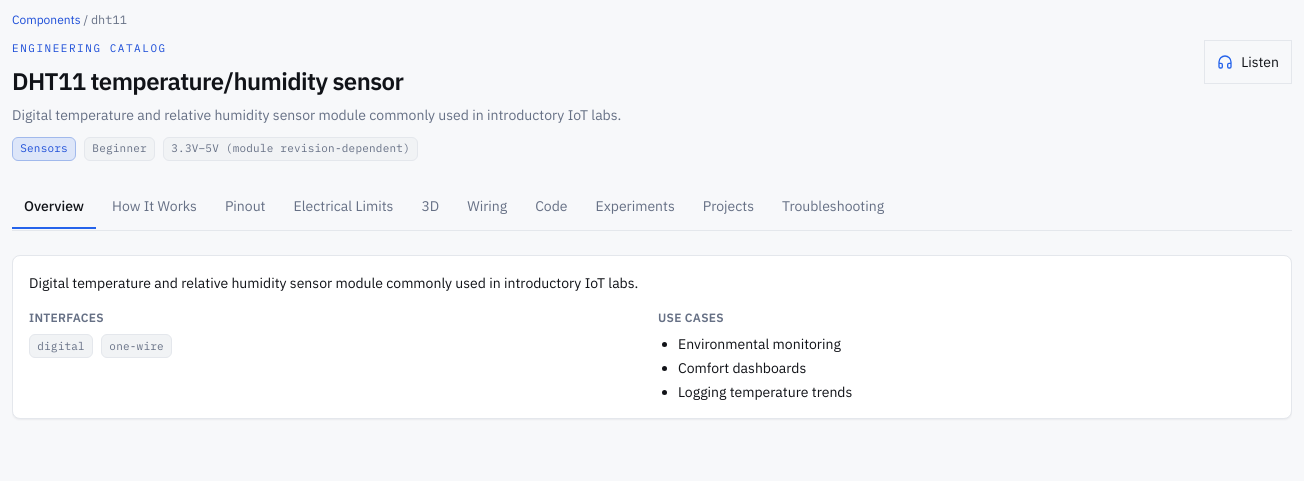
ComponentDetailPage › renders pin table and safety for a known slug
Expected: the heading "DHT11 temperature/humidity sensor" is shown, [12,64,403,96]
Click the tab "Pinout".
click(245, 206)  # box [213,184,278,228]
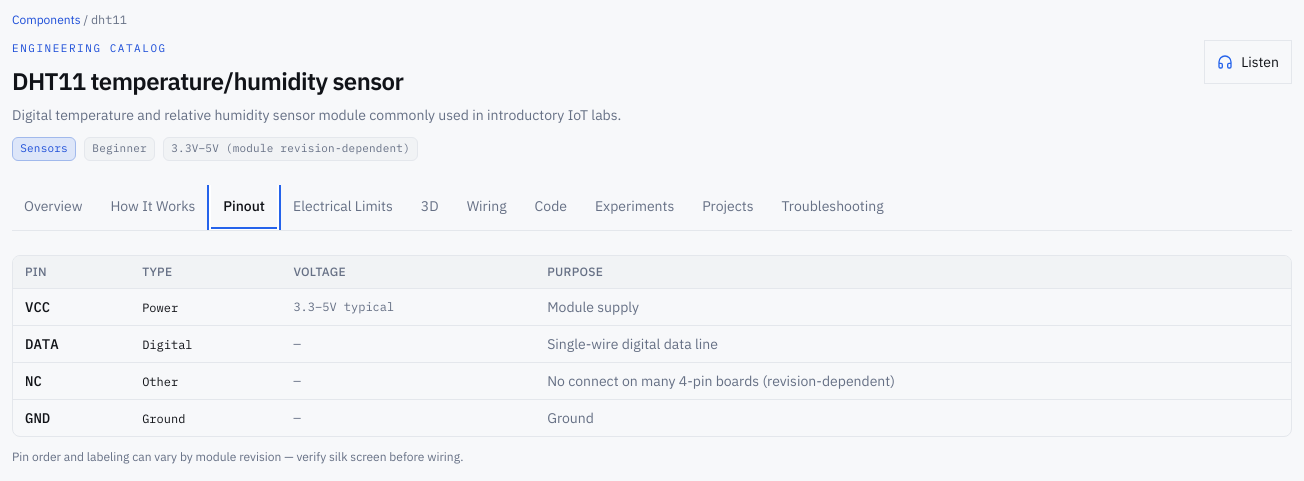
Now the table named "Pin table for DHT11" is shown, box [13,256,1291,436]
Click the tab "Electrical Limits".
click(343, 206)  # box [281,184,405,228]
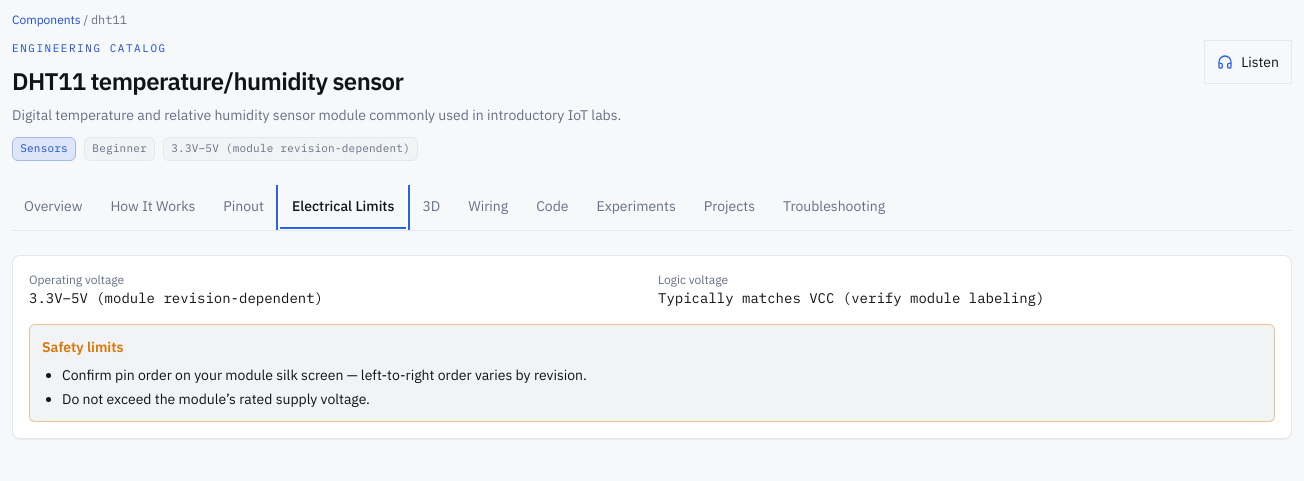
Now the heading "Safety limits" is shown, box [42,338,123,356]
